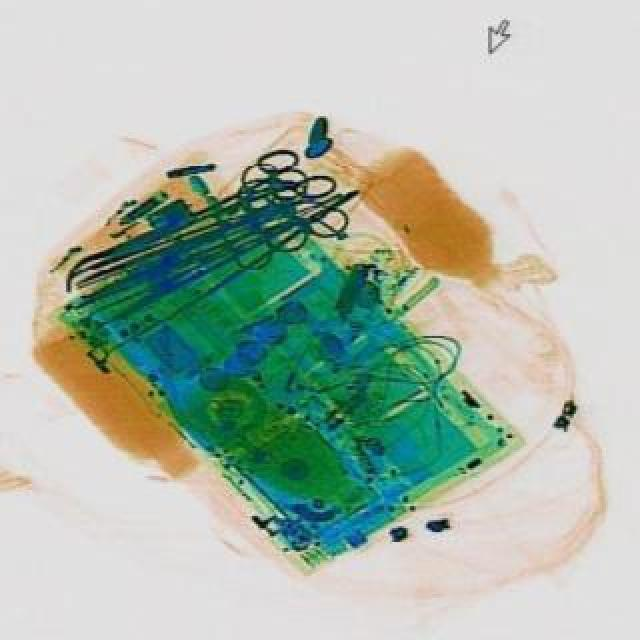pliers: (176, 138, 338, 254)
